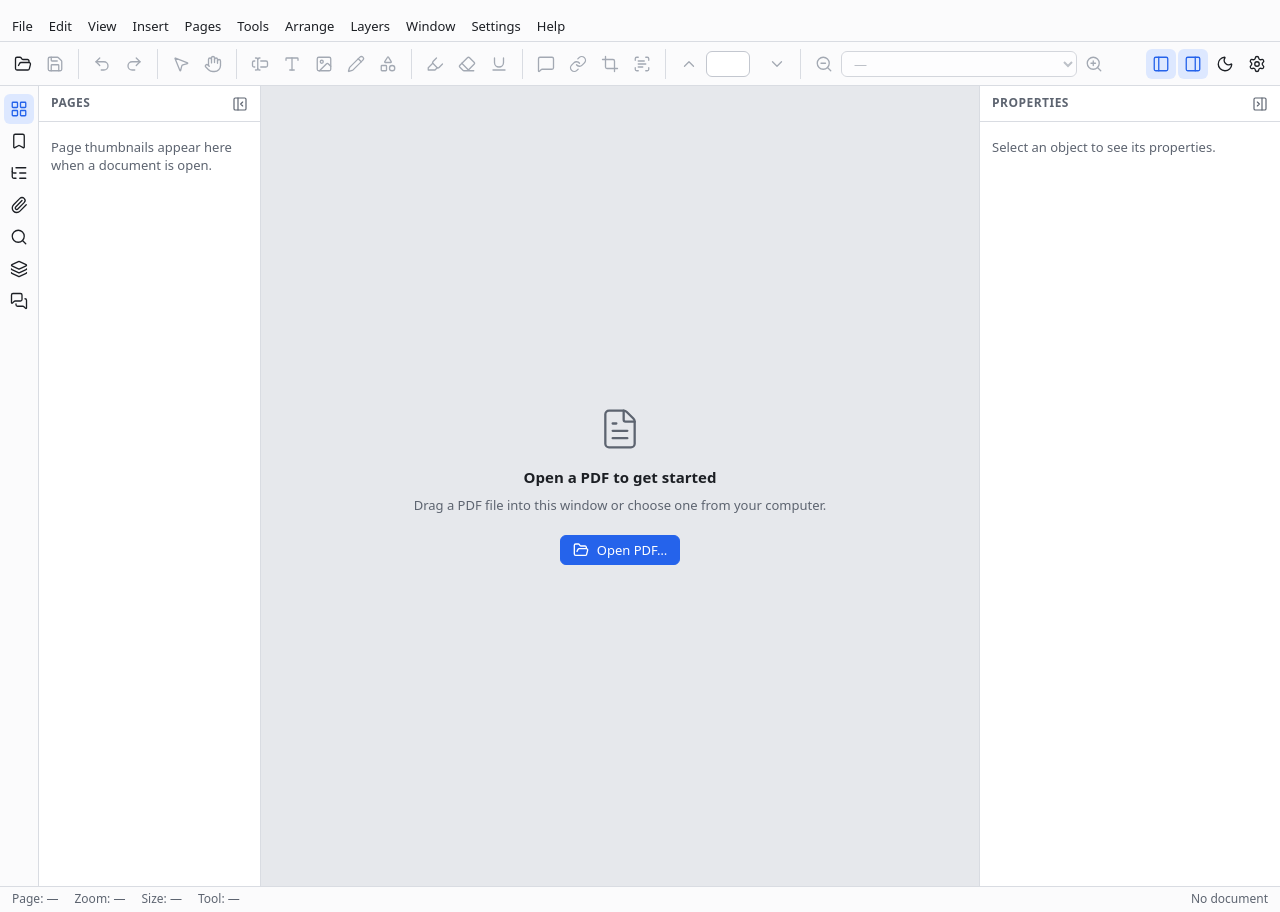
application shell › collapses, restores and resets side panels
This screenshot has width=1280, height=912.
Step 1. Click the button named "Navigation Panel" → (1161, 64), box 1146,48 -> 1176,78
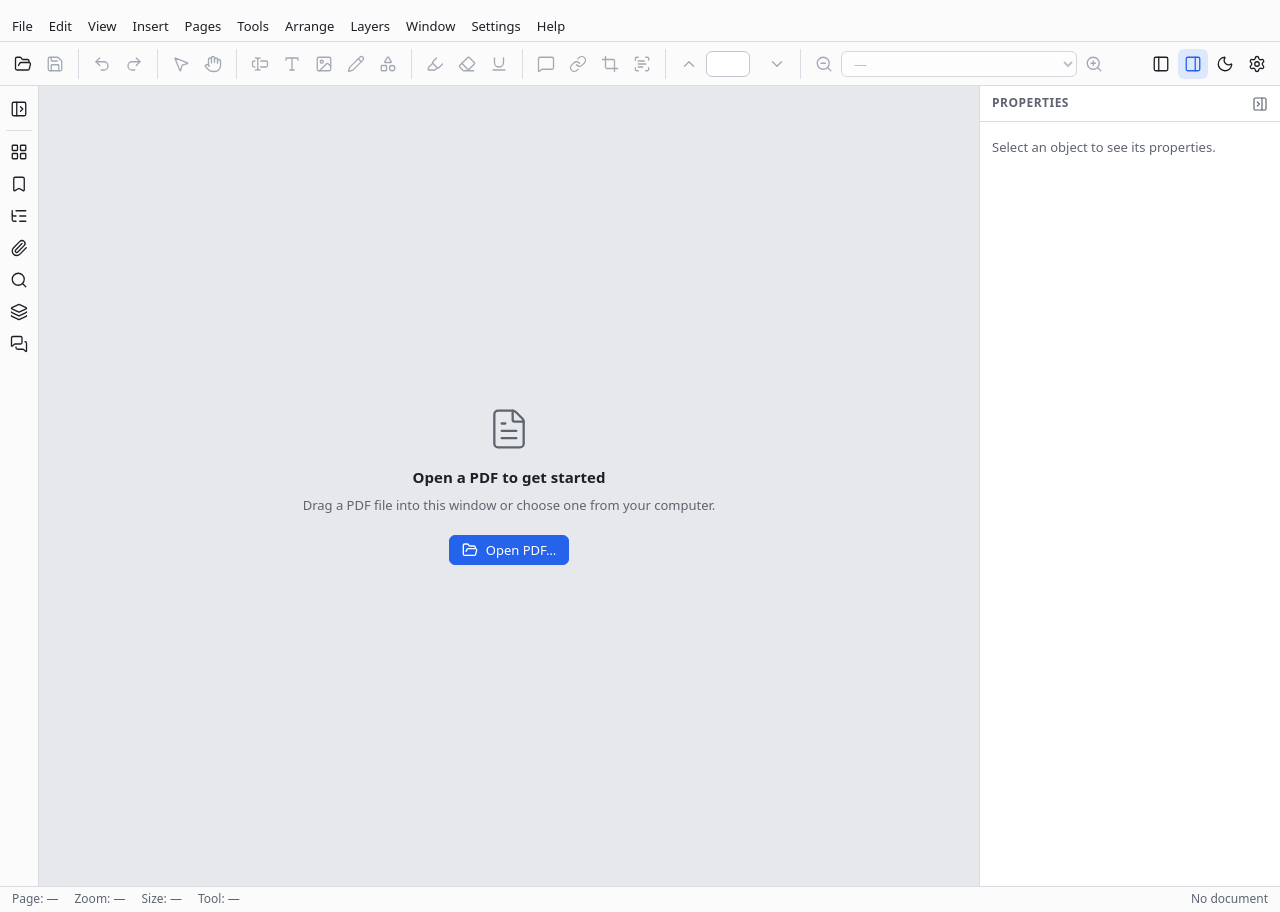
Expected: the panel "Pages Page thumbnails appear here when a document is open." is gone
Step 2. Click the button named "Navigation Panel" → (1161, 64), box 1146,48 -> 1176,78
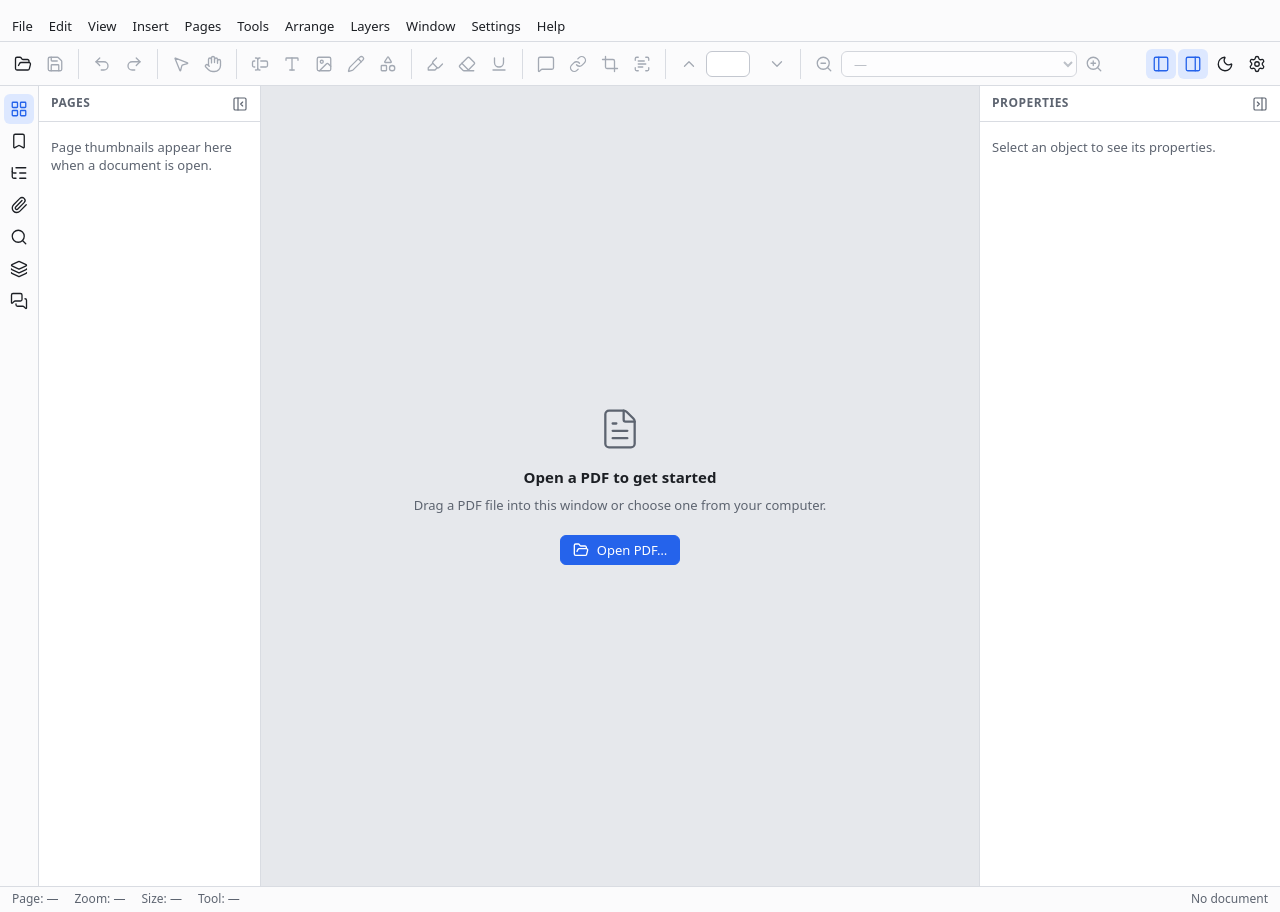
Expected: the element named "Navigation panel" is shown, 0,86 -> 260,886
Step 3. Click the 2nd button named "Collapse panel" → (1260, 104), box 1248,92 -> 1272,116
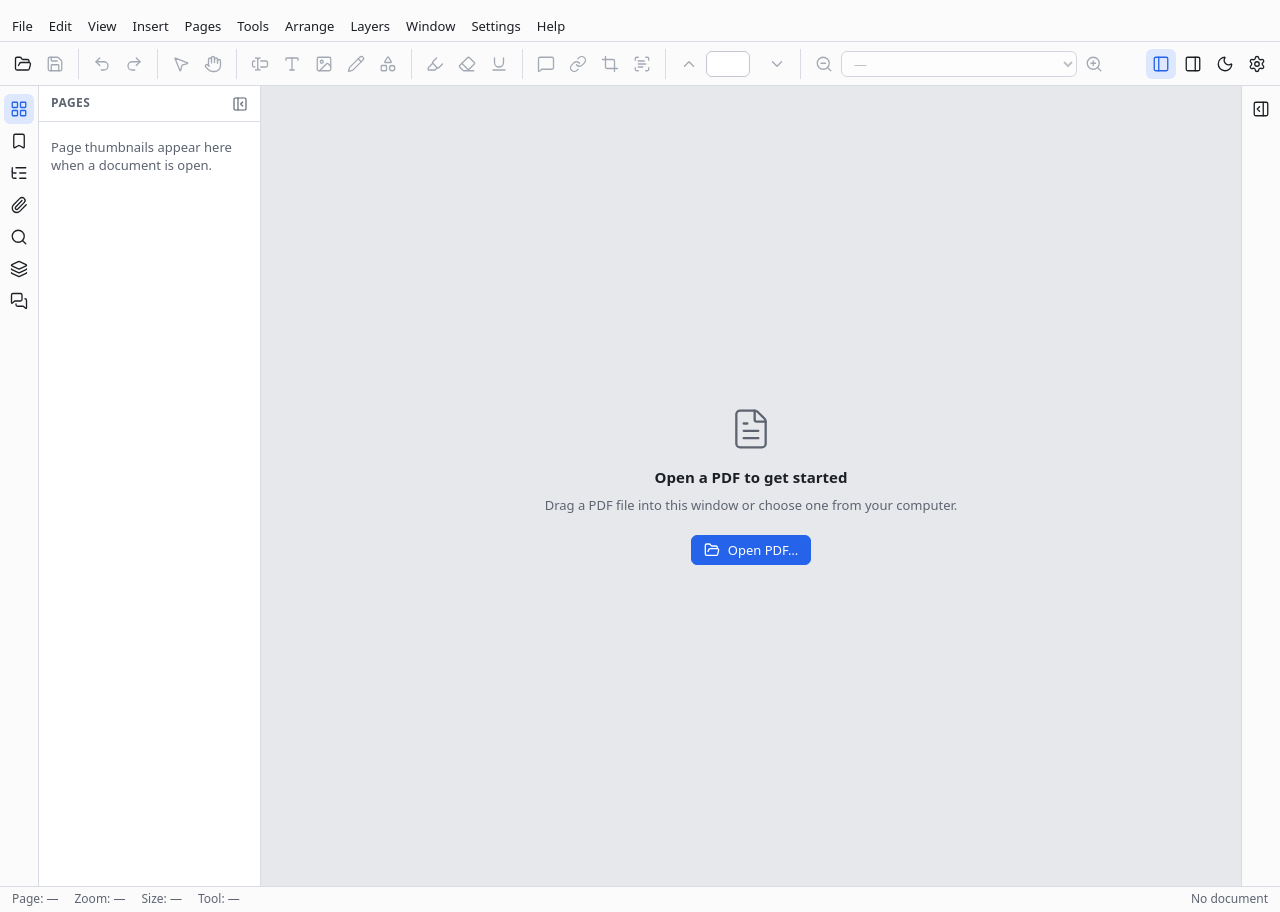
Step 4. Click the menu item "View" → (102, 26), box 80,15 -> 125,38
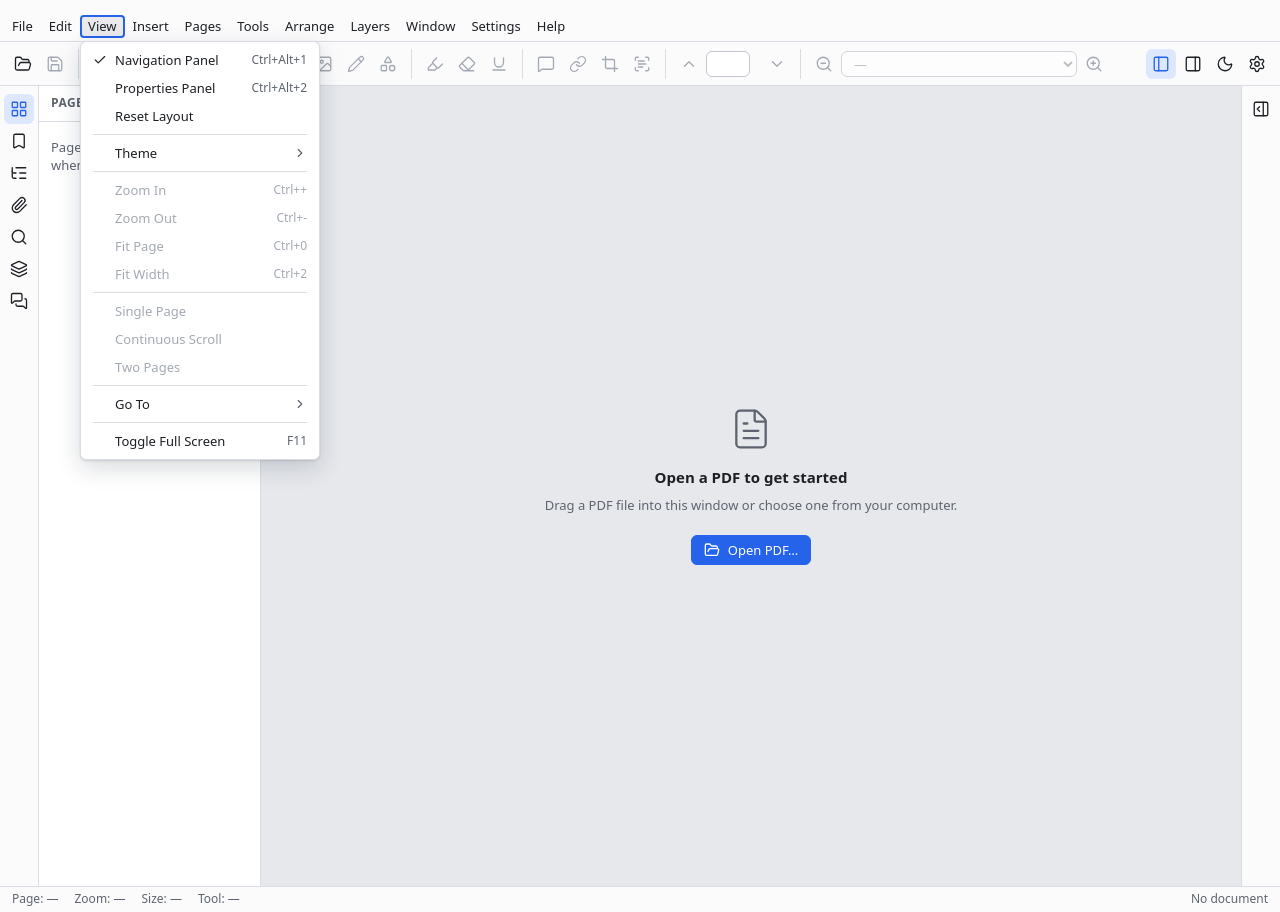
Step 5. Click the menu item "Reset Layout" → (200, 116), box 85,102 -> 315,130
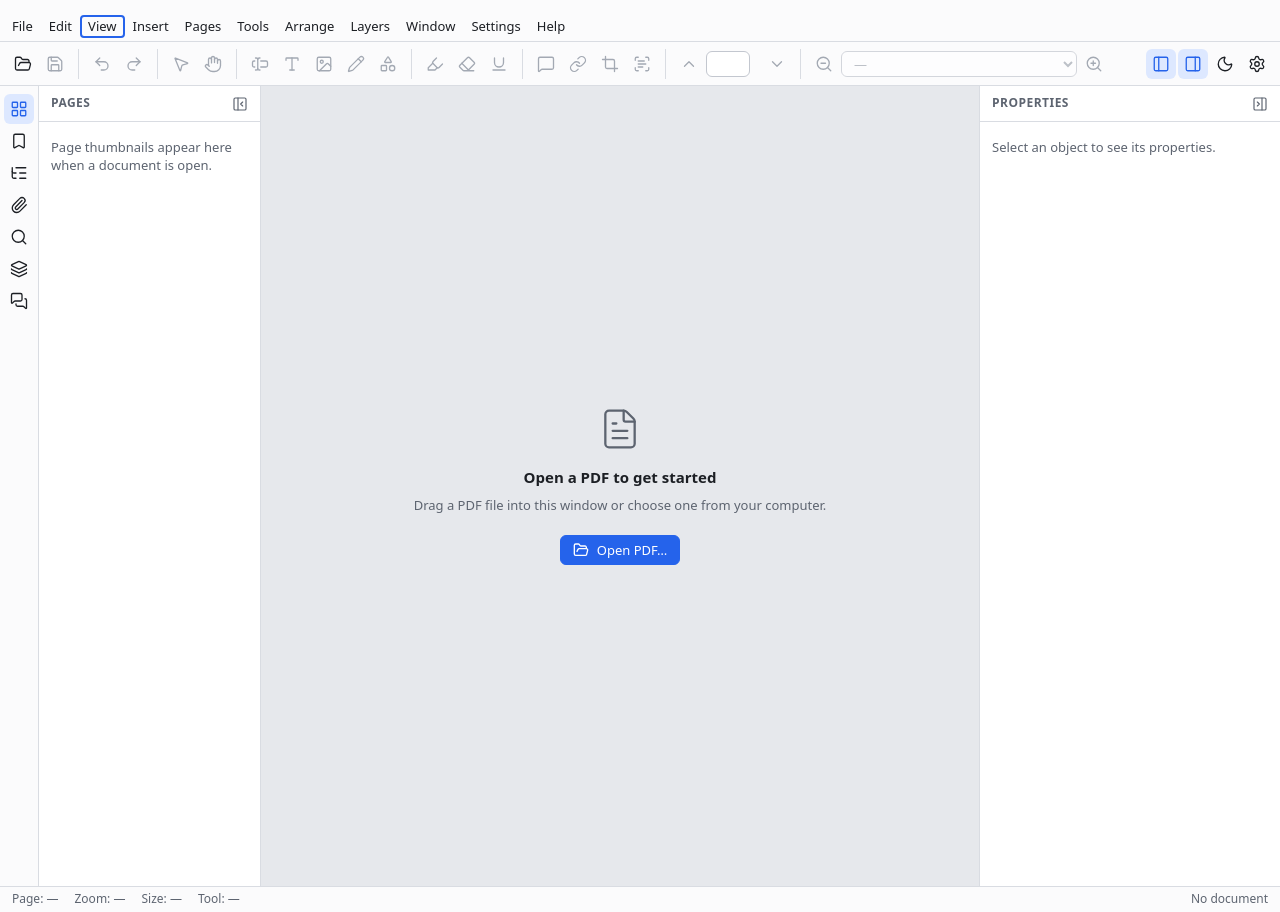
Expected: the element named "Properties panel" is shown, 980,86 -> 1279,886
